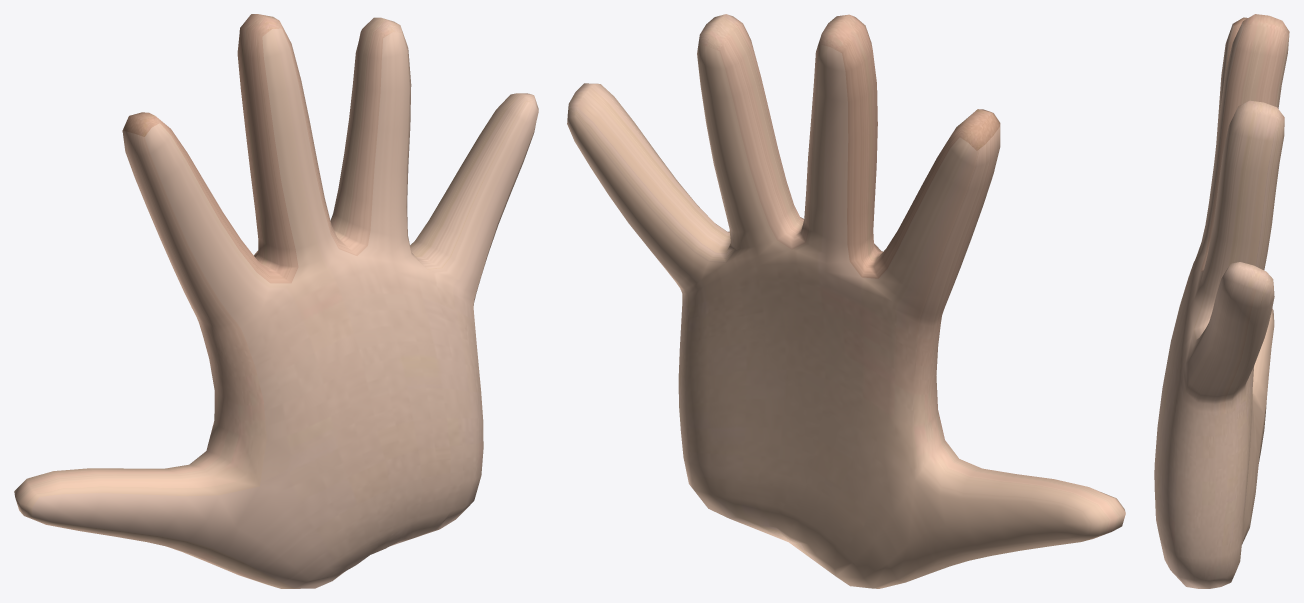
File: R_hand03.fbx
The picture shows the model from 3 angles, left to right: view 1: azimuth 30°, elevation 25°; view 2: azimuth 150°, elevation 25°; view 3: azimuth 270°, elevation 25°; orthographic projection. The views are drawn at different scales.
Parts seen in each view (by area): view 1: hand; view 2: hand; view 3: hand.
Part boxes in pixels (x1,y1,x2,y2): hand: (14, 14, 538, 588); hand: (567, 14, 1125, 588); hand: (1154, 14, 1289, 588).
Bounding box in the file's own units: 438 × 448 × 102.
